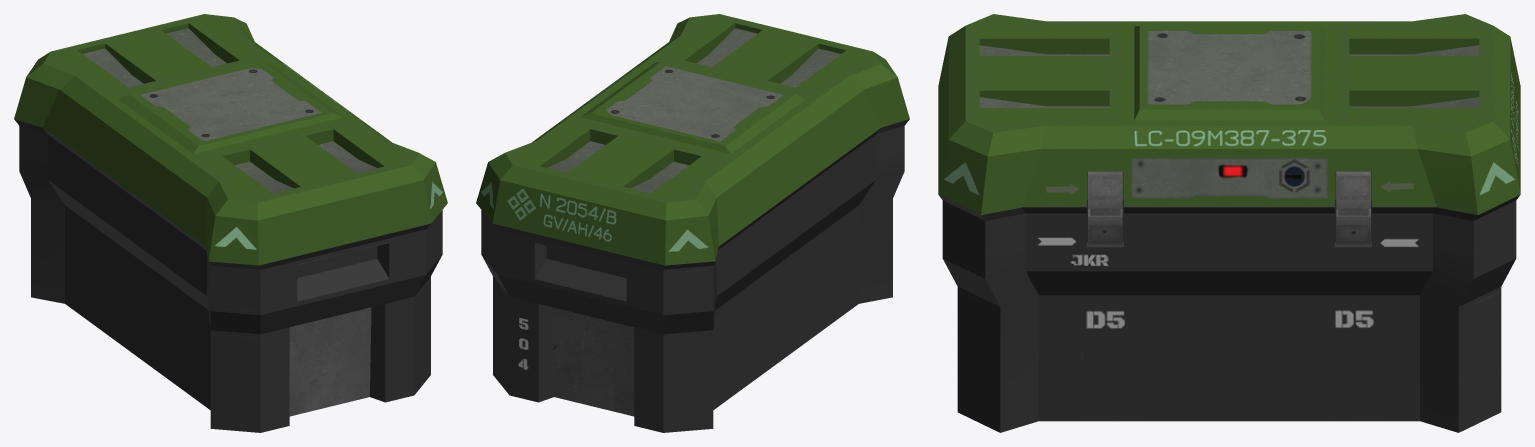
Rendered from sci-fi_box.glb.
3 renders of one model, left to right at view 1: azimuth 30°, elevation 25°; view 2: azimuth 150°, elevation 25°; view 3: azimuth 270°, elevation 25°, orthographic. The views are drawn at different scales.
Parts seen in each view (by area): view 1: down_low, top_low, top2_low; view 2: down_low, top_low, top2_low; view 3: down_low, top_low, top2_low, lock_low.
Boxes of the visible parts, x1,y1,x2,y2 form: down_low: (14,119,442,432); top_low: (14,14,447,265); top2_low: (118,61,343,153); down_low: (481,119,909,432); top_low: (476,14,909,265); top2_low: (580,61,805,153); down_low: (938,194,1520,432); top_low: (938,14,1520,215); top2_low: (1134,26,1324,120); lock_low: (1088,171,1370,244).
Bounding box in the file's own units: 78.52 × 72.84 × 130.
1 material, 1 textured.
